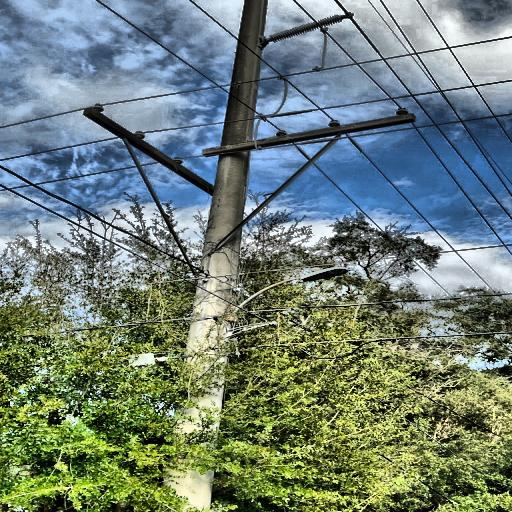insulator: (390, 110, 415, 120), (320, 122, 348, 130), (274, 128, 291, 141)
pole: (116, 0, 289, 512)
street light: (228, 264, 348, 313)
vegetation_encroachment: (129, 242, 266, 512)
